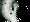person: (3, 1, 21, 22)
